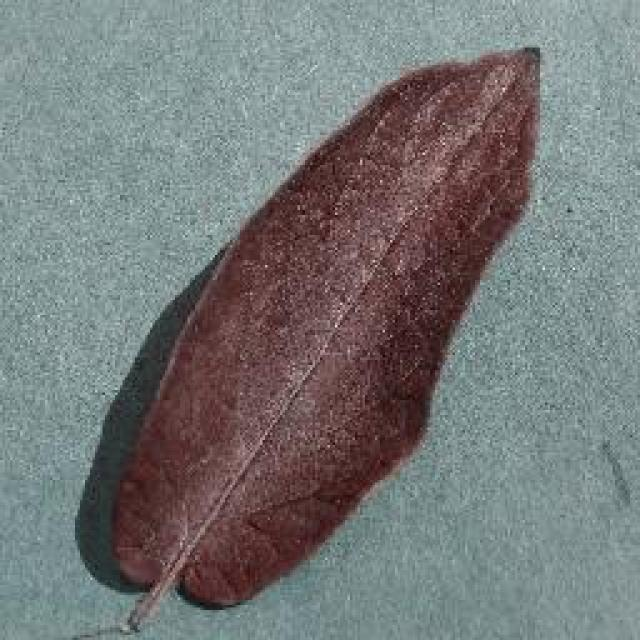Potato___healthy: (71, 44, 541, 634)
